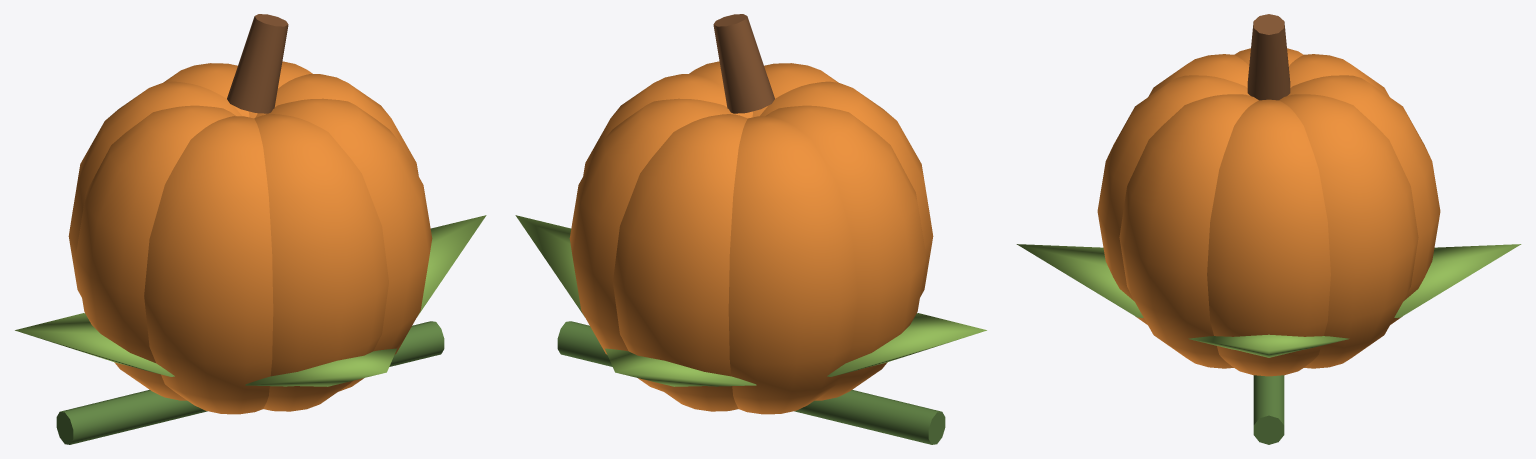
File: crop_7_stage_3.fbx
3 views of the same model, side by side, from view 1: azimuth 30°, elevation 25°; view 2: azimuth 150°, elevation 25°; view 3: azimuth 270°, elevation 25° (orthographic). The views are drawn at different scales.
Visible parts, largest first — view 1: crop_7_stage_3; view 2: crop_7_stage_3; view 3: crop_7_stage_3.
Part boxes in pixels (left/top/right/bottom): crop_7_stage_3: left=15, top=14, right=486, bottom=444; crop_7_stage_3: left=515, top=14, right=986, bottom=444; crop_7_stage_3: left=1016, top=14, right=1521, bottom=444.
Bounding box in the file's own units: 0.6545 × 0.5 × 0.6545.
1 material, 1 textured.
